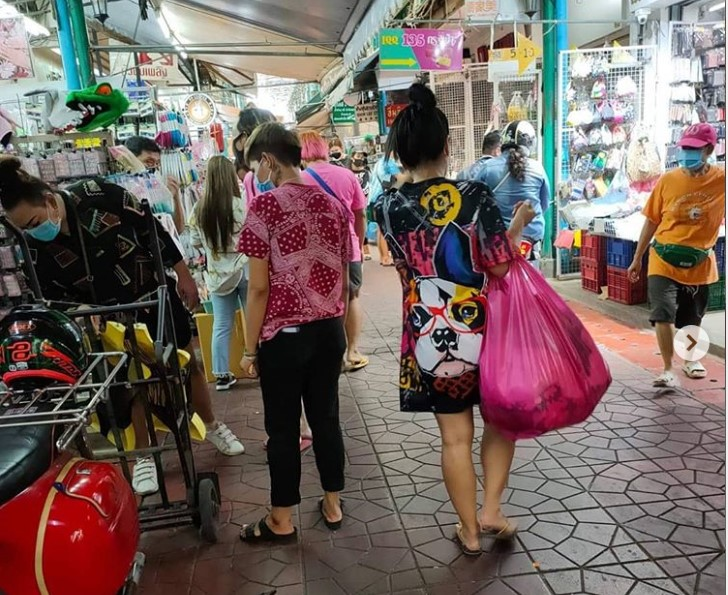face_with_mask: (5, 174, 65, 241), (243, 127, 300, 197), (676, 122, 716, 171)
